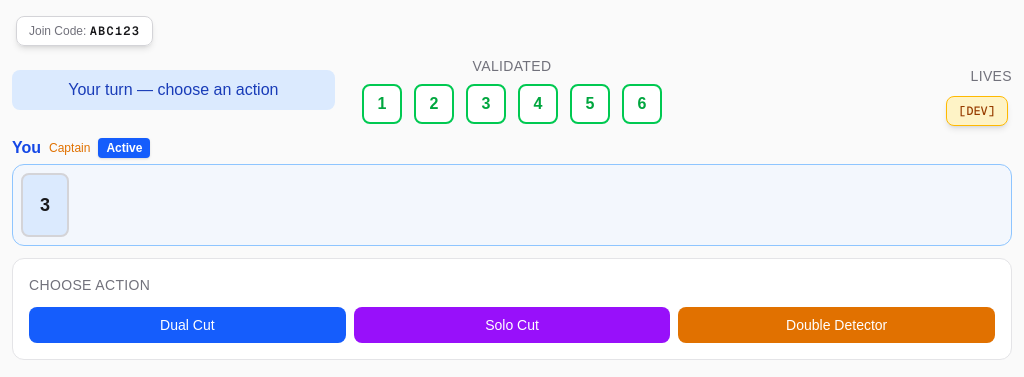
Scenario: GameClient — full game flow integration › dev panel: Skip Turn › renders Skip Turn inside the dev panel when NEXT_PUBLIC_ENABLE_DEV_TOOLS=true
Click the button with aria-label "Open dev tools" at [977, 111], box [946, 96, 1008, 126]
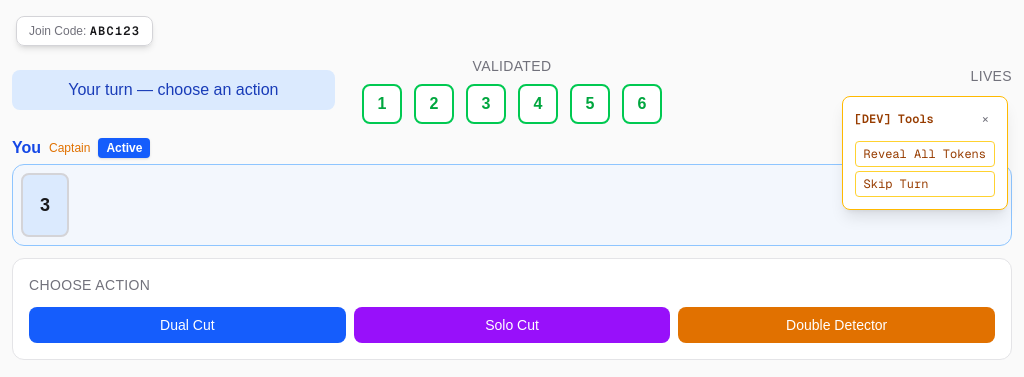
Now the button "Skip Turn" is shown, box [855, 171, 995, 197]
